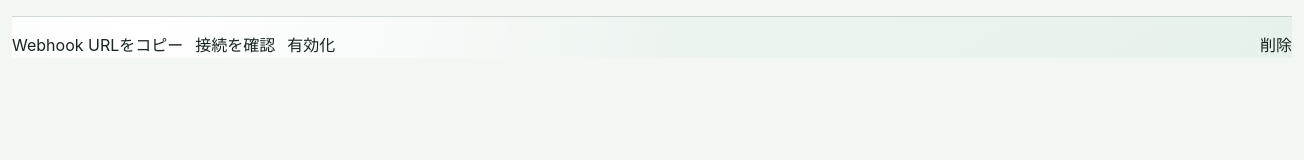
Test: copies the displayed webhook URL and shows a safe notification
Click the button "Webhook URLをコピー". click: (98, 46)
box: [12,33,183,58]
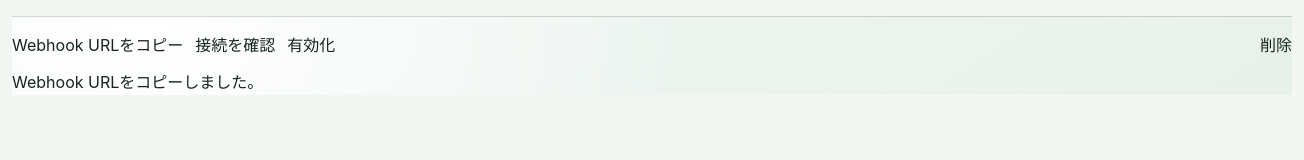
Now the text "Webhook URLをコピーしました" is shown, box [12,72,263,92]
